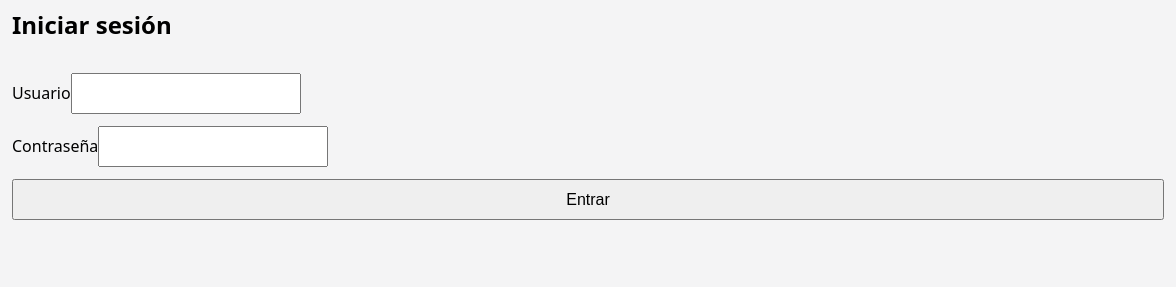
Login › muestra error si las credenciales son incorrectas (caso de error)
Type "admin" into the field labelled "Usuario" at [186, 93], box [71,73,301,114]
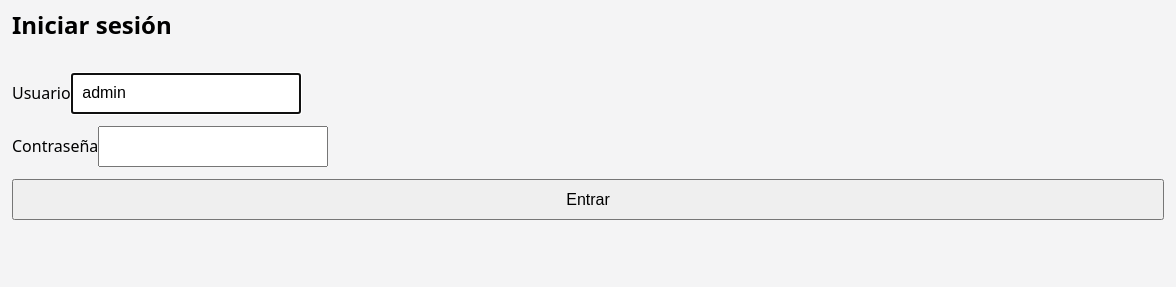
Type "mala" into the password field labelled "Contraseña" at [213, 147], box [98,126,328,167]
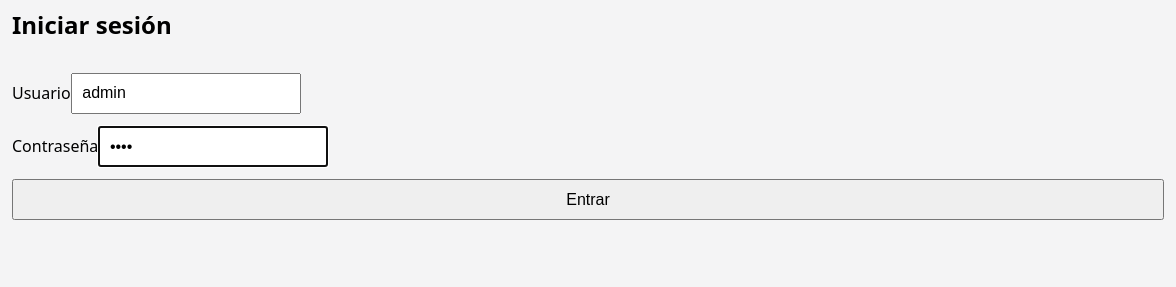
Click the button "Entrar" at [588, 200], box [12,179,1164,220]
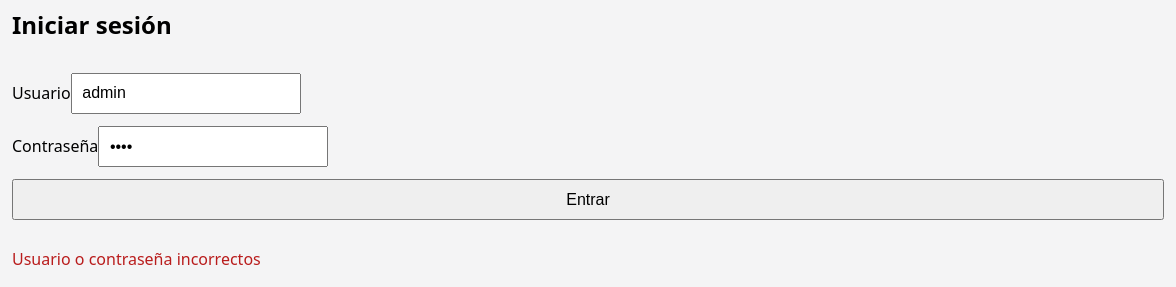
expect the message shows "incorrectos": met, box [12,248,261,270]
